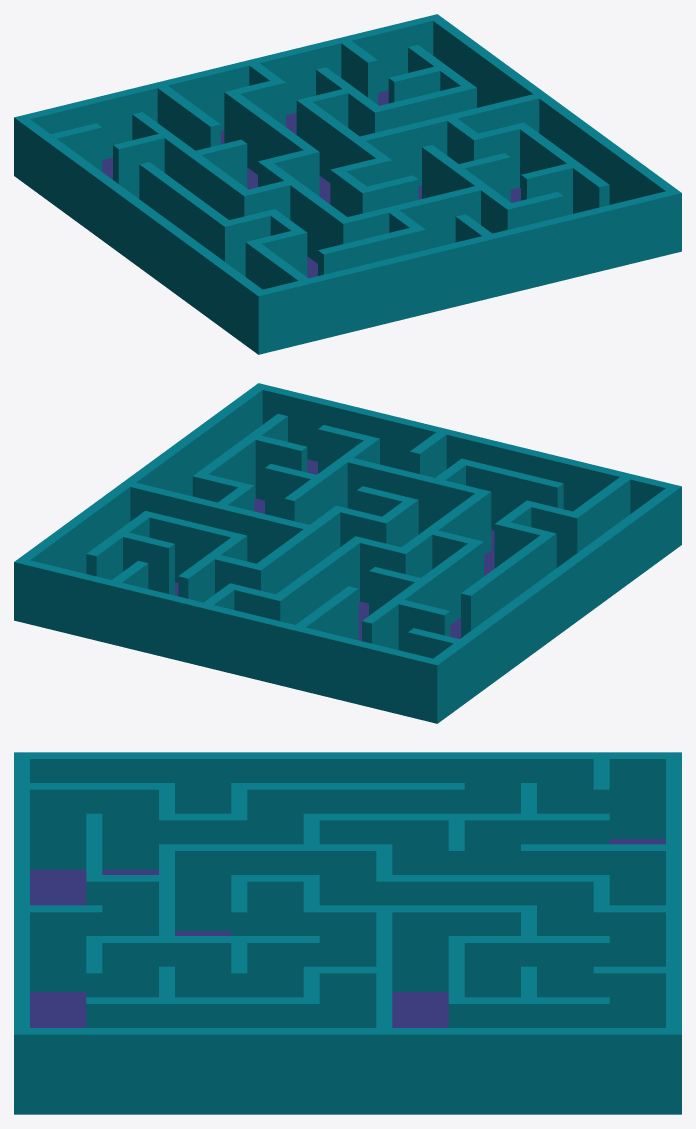
File: Level15Ground.FBX
The picture shows the model from 3 angles, top to bottom: view 1: azimuth 30°, elevation 25°; view 2: azimuth 150°, elevation 25°; view 3: azimuth 270°, elevation 25°; orthographic projection. The views are drawn at different scales.
Parts seen in each view (by area): view 1: Labyrinth002; view 2: Labyrinth002; view 3: Labyrinth002.
Boxes of the visible parts, x1,y1,x2,y2 form: Labyrinth002: [14, 14, 681, 354]; Labyrinth002: [14, 383, 681, 723]; Labyrinth002: [14, 752, 681, 1114].
Size of the model in its own units: 212 by 28 by 212.
